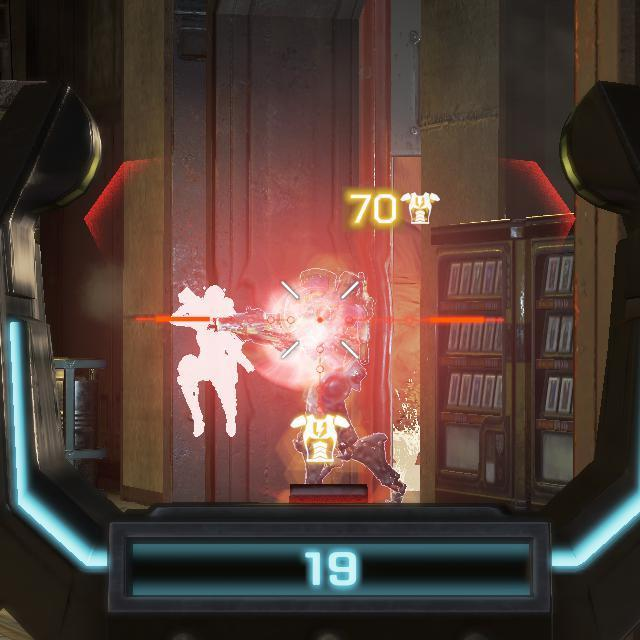avatar: (275, 265, 388, 485)
